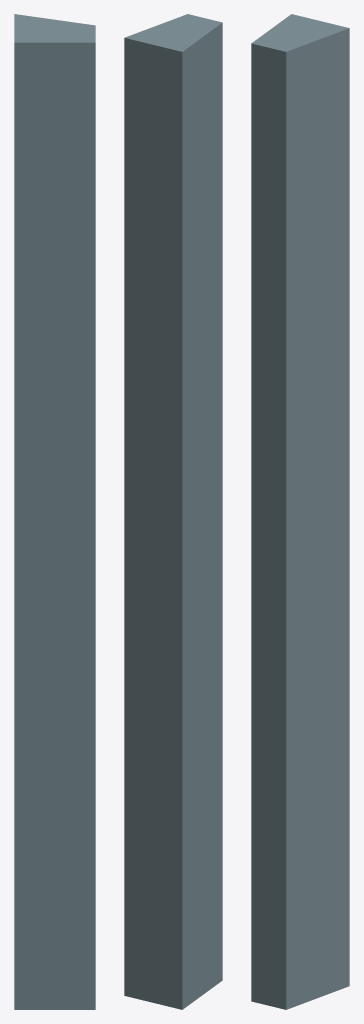
The model's file is esp2023_p02_mitre_post.glb.
3 views of the same model, side by side, from view 1: azimuth 90°, elevation 25°; view 2: azimuth 150°, elevation 25°; view 3: azimuth 330°, elevation 25° (orthographic).
Visible parts, largest first — view 1: mitre post; view 2: mitre post; view 3: mitre post.
Boxes of the visible parts, x1,y1,x2,y2 form: mitre post: (14,14,95,1009); mitre post: (124,14,222,1009); mitre post: (251,14,349,1009).
Bounding box in the file's own units: 375 × 5910 × 450.
